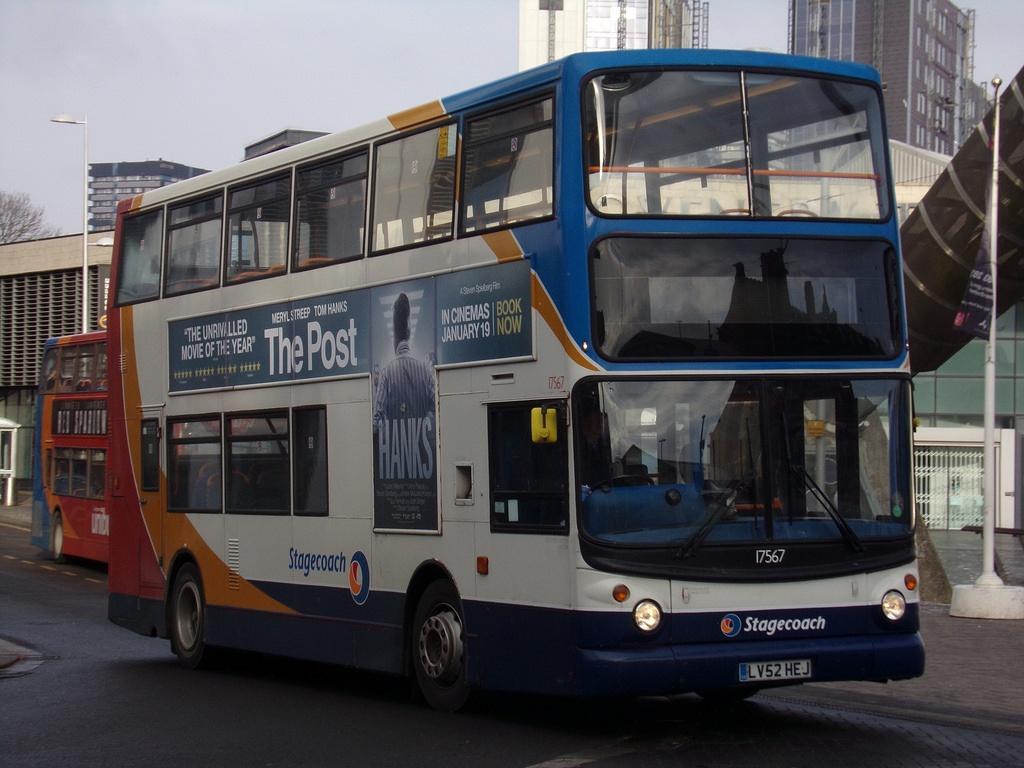bus: (112, 44, 936, 680)
